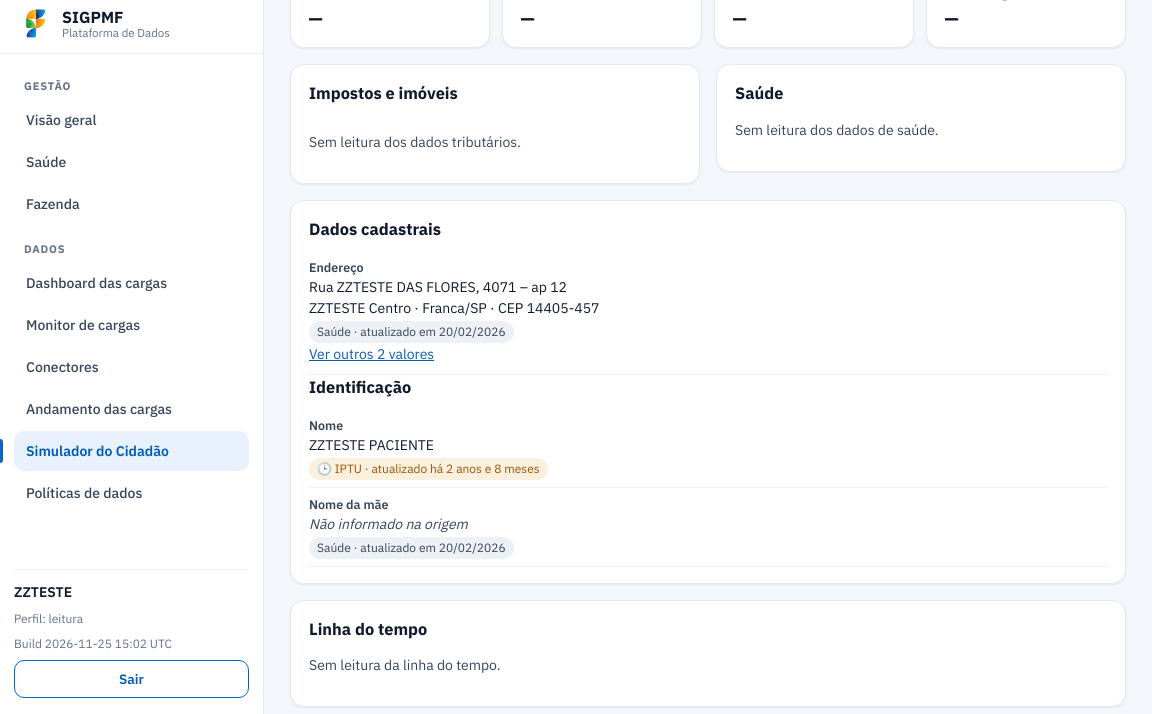
Test case: ficha do cidadão: endereço e procedência › UXO5/EN8: "Ver outros 2 valores" abre valor + chip por fonte
The width and height of the screenshot is (1152, 714).
(page scrolled)
Click the button "Ver outros 2 valores".
click(372, 355)  # box x1=309 y1=343 x2=434 y2=367
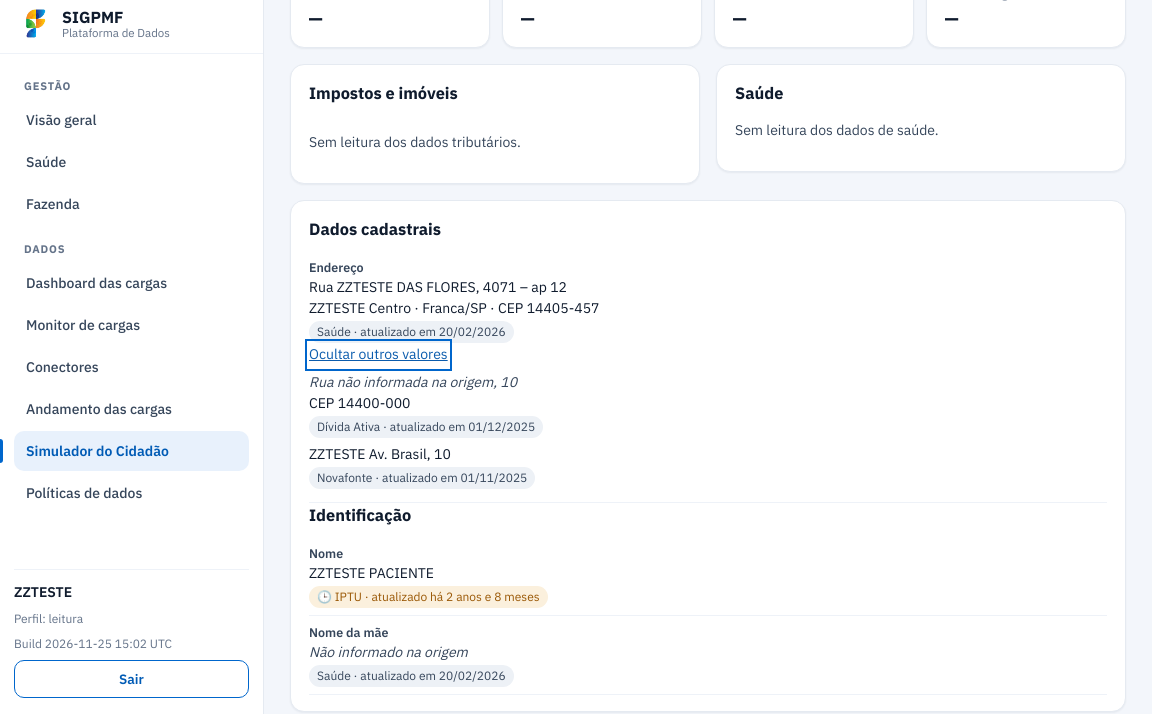
Check: the button named "Ver outros 2 valores" is expanded, box x1=309 y1=343 x2=448 y2=367
Check: the text "Rua não informada na origem, 10" is shown, box x1=309 y1=373 x2=517 y2=391
Check: the element named "Fonte: Dívida Ativa" is shown, box x1=309 y1=416 x2=543 y2=438
